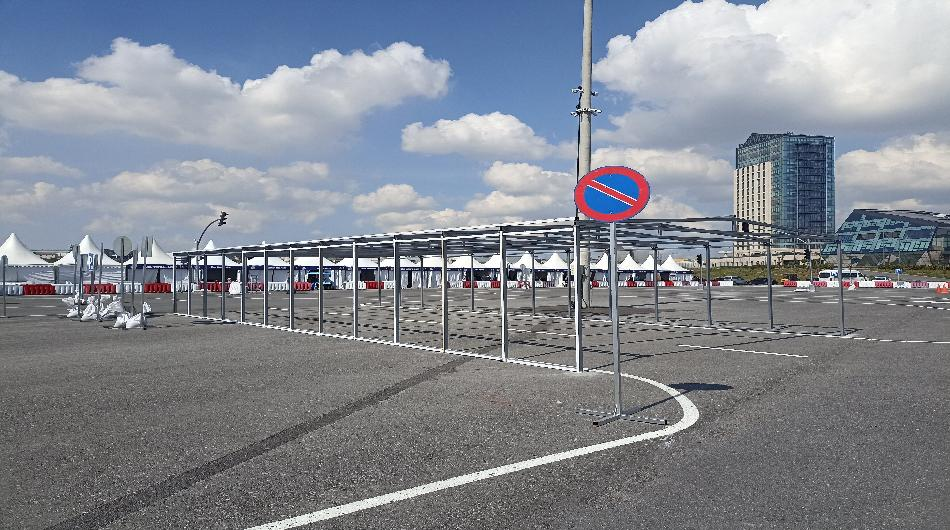park_yapilmaz_1: (574, 165, 650, 220)
